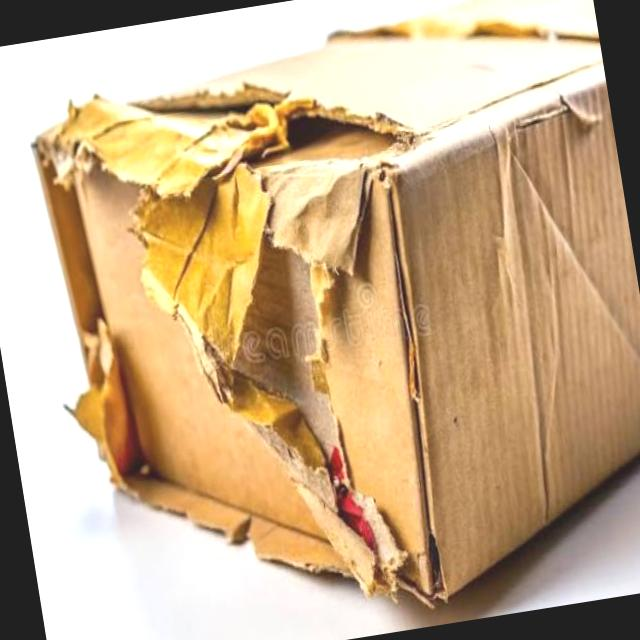package_damage: (6, 19, 531, 640)
